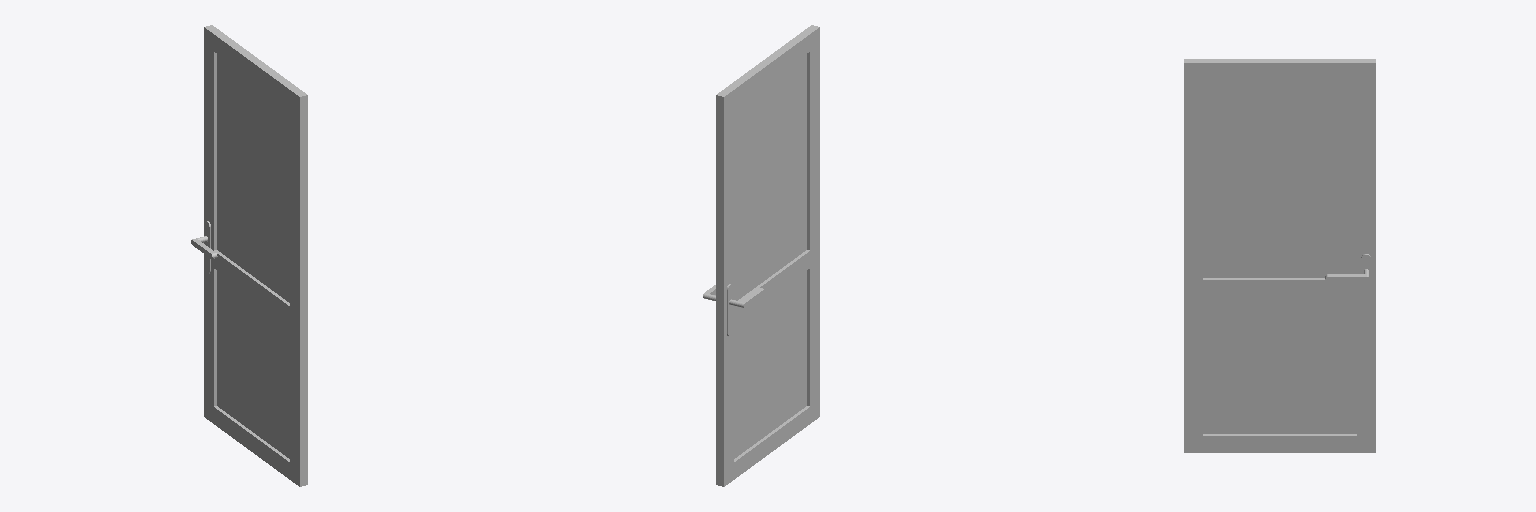
The model's file is door.obj.
The picture shows the model from 3 angles: view 1: azimuth 30°, elevation 25°; view 2: azimuth 150°, elevation 25°; view 3: azimuth 270°, elevation 25°; orthographic projection.
Parts seen in each view (by area): view 1: Cube.001_Material.007, Cube.002_Material.005; view 2: Cube.001_Material.007, Cube.002_Material.005; view 3: Cube.001_Material.007, Cube.002_Material.005.
Boxes of the visible parts, x1,y1,x2,y2 form: Cube.001_Material.007: [217, 54, 289, 458]; Cube.002_Material.005: [191, 25, 307, 486]; Cube.001_Material.007: [734, 54, 806, 458]; Cube.002_Material.005: [703, 25, 819, 486]; Cube.001_Material.007: [1203, 80, 1356, 433]; Cube.002_Material.005: [1184, 59, 1375, 452].
Bounding box in the file's own units: 0.5 × 4.5 × 2.